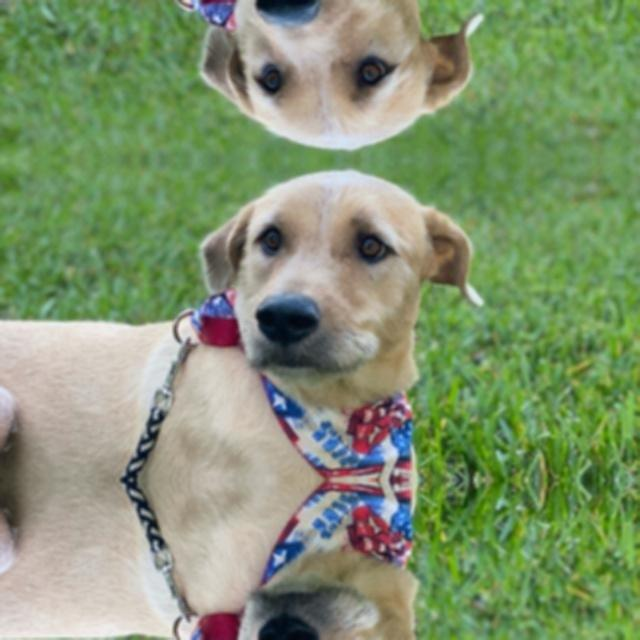dog: (183, 166, 484, 388), (183, 0, 484, 154), (183, 572, 484, 640)
